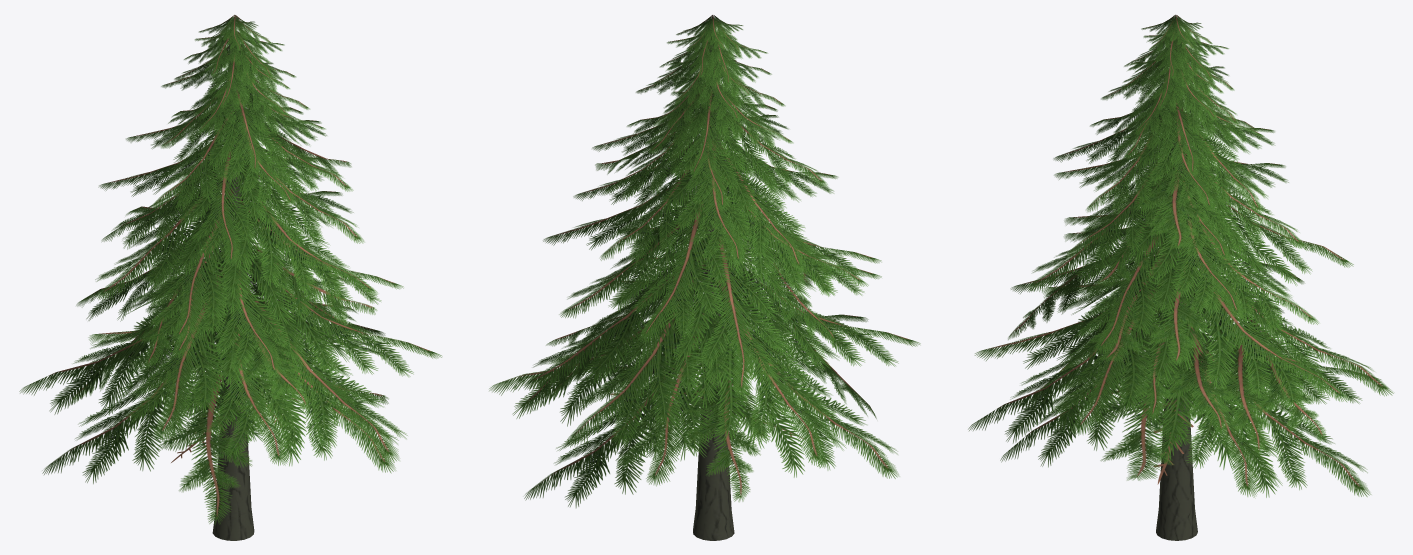
File: pine.glb
The picture shows the model from 3 angles, left to right: view 1: azimuth 30°, elevation 25°; view 2: azimuth 150°, elevation 25°; view 3: azimuth 270°, elevation 25°; orthographic projection.
Visible parts, largest first — view 1: Branches, Trunk; view 2: Branches, Trunk; view 3: Branches, Trunk.
Boxes of the visible parts, bbox=[...] form: Branches: bbox=[19, 15, 442, 524]; Trunk: bbox=[212, 31, 254, 540]; Branches: bbox=[489, 15, 920, 507]; Trunk: bbox=[693, 45, 734, 540]; Branches: bbox=[968, 14, 1393, 497]; Trunk: bbox=[1156, 45, 1197, 540].
Bounding box in the file's own units: 58.35 × 75 × 57.27.
Materials: 2 (2 with a texture image).
